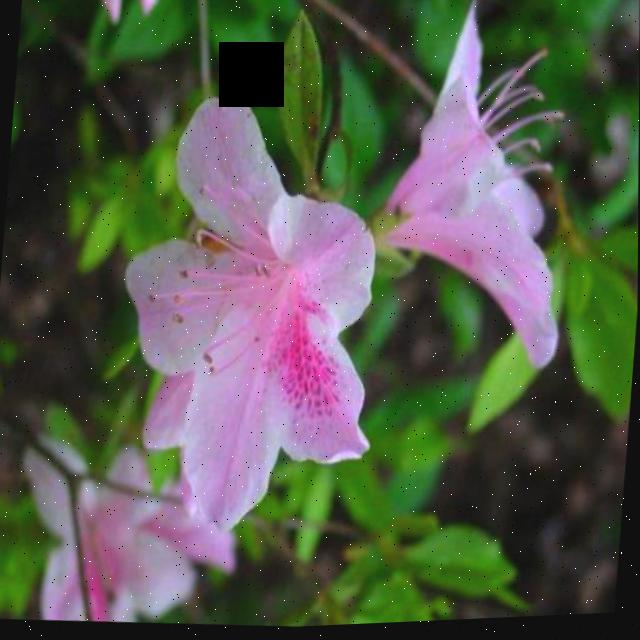azalea: (83, 68, 410, 529), (360, 27, 637, 401)
